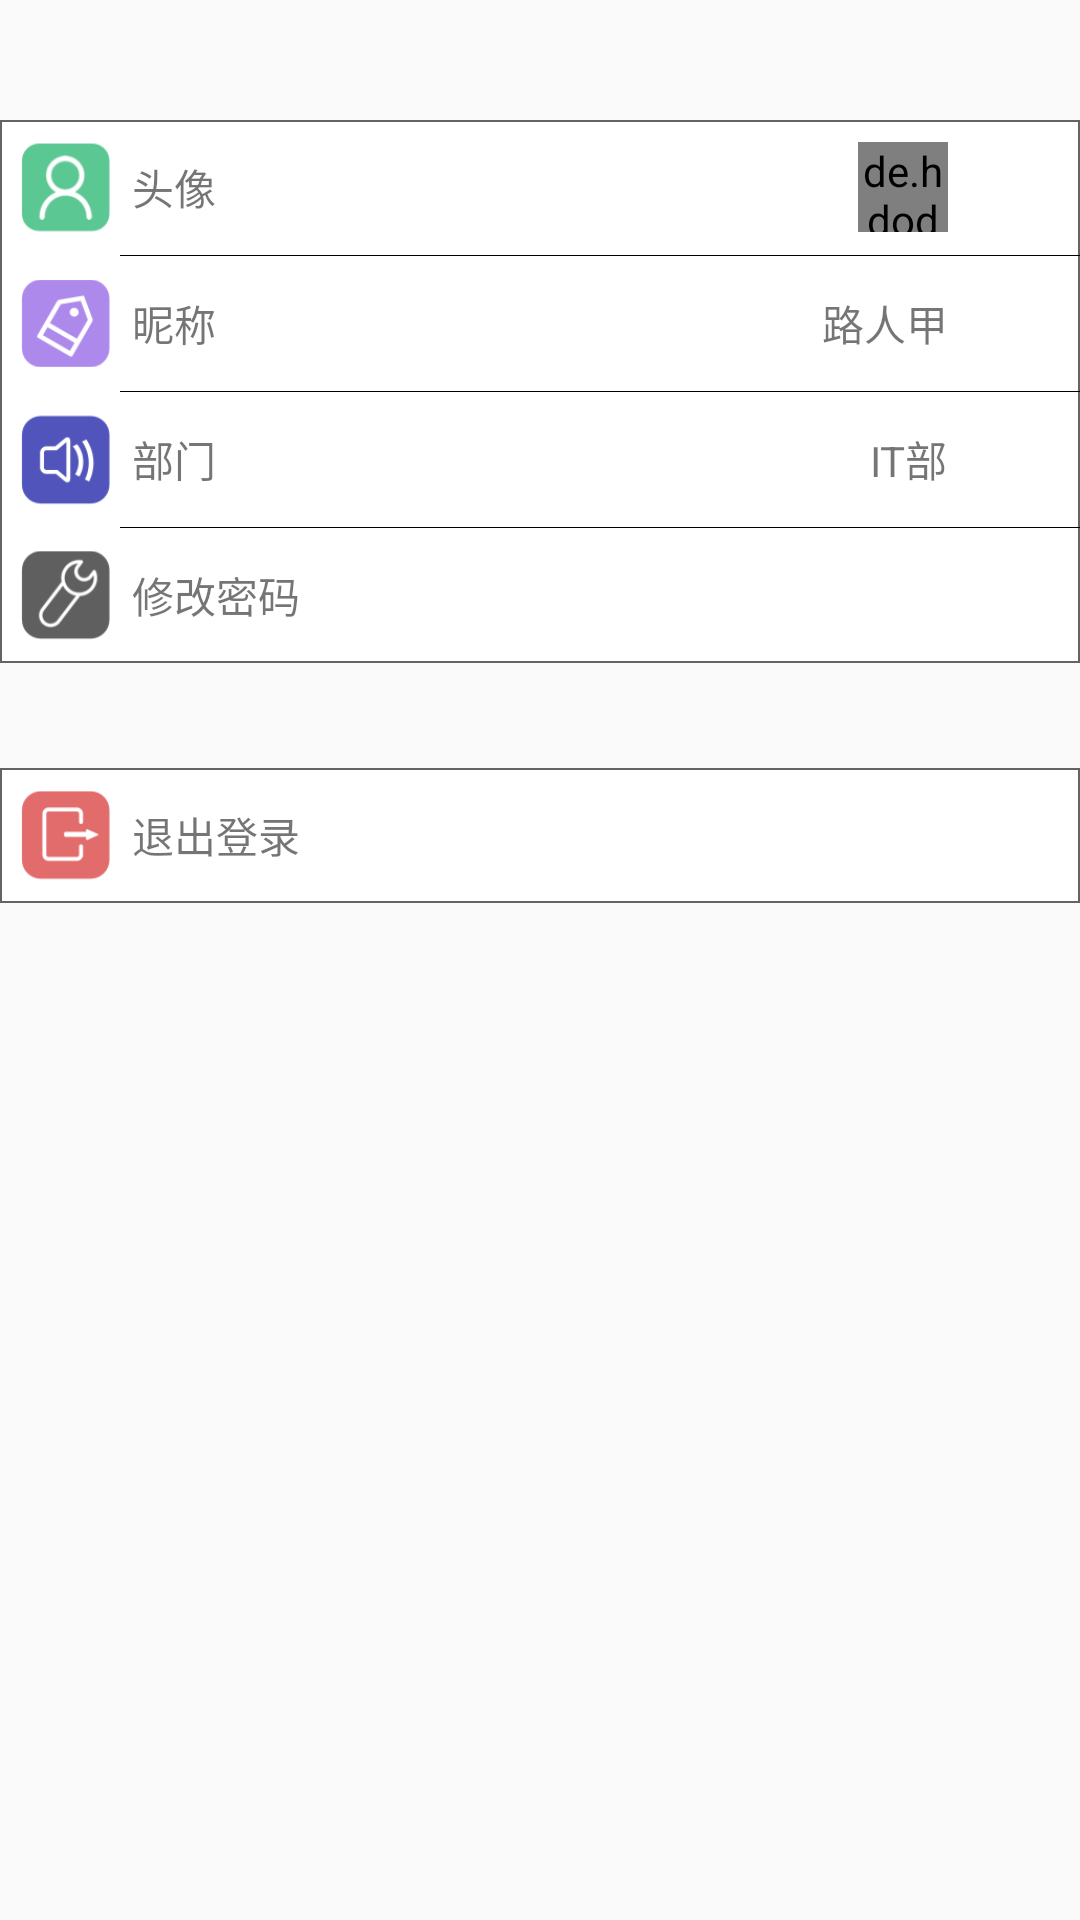

Where icons sit on this 1080×1920 app screen, as [x1=x1, y1=y1, x2=x2, y2=y2]:
notification: [x1=22, y1=415, x2=110, y2=504]
